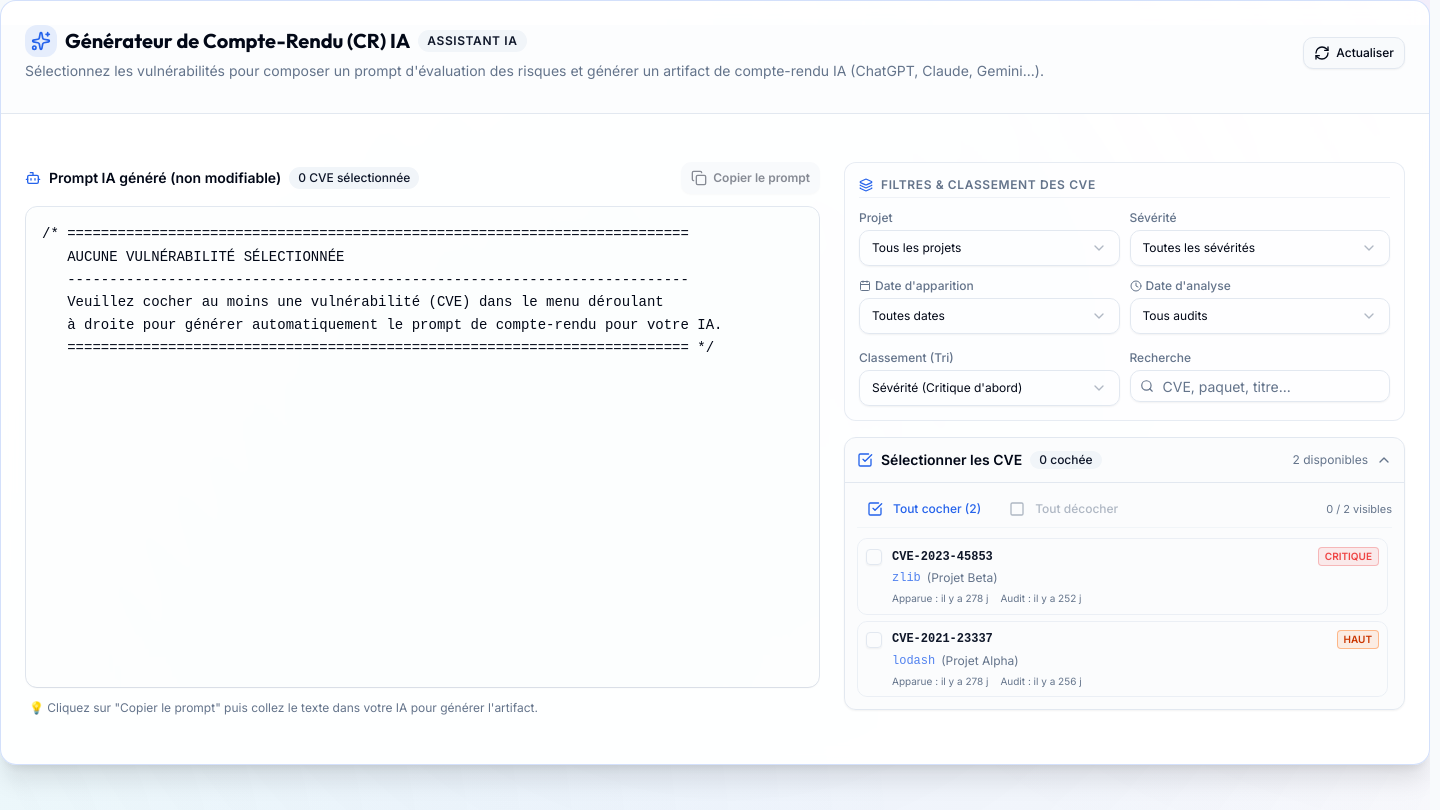
PromptReportGenerator Component › bouton de copie appelle le presse-papiers et change d'état
Expected: the text "CVE-2021-23337" is shown, [892,631,993,647]
Click the checkbox named "CVE-2021-23337" at (874, 640), box [866,632,882,648]
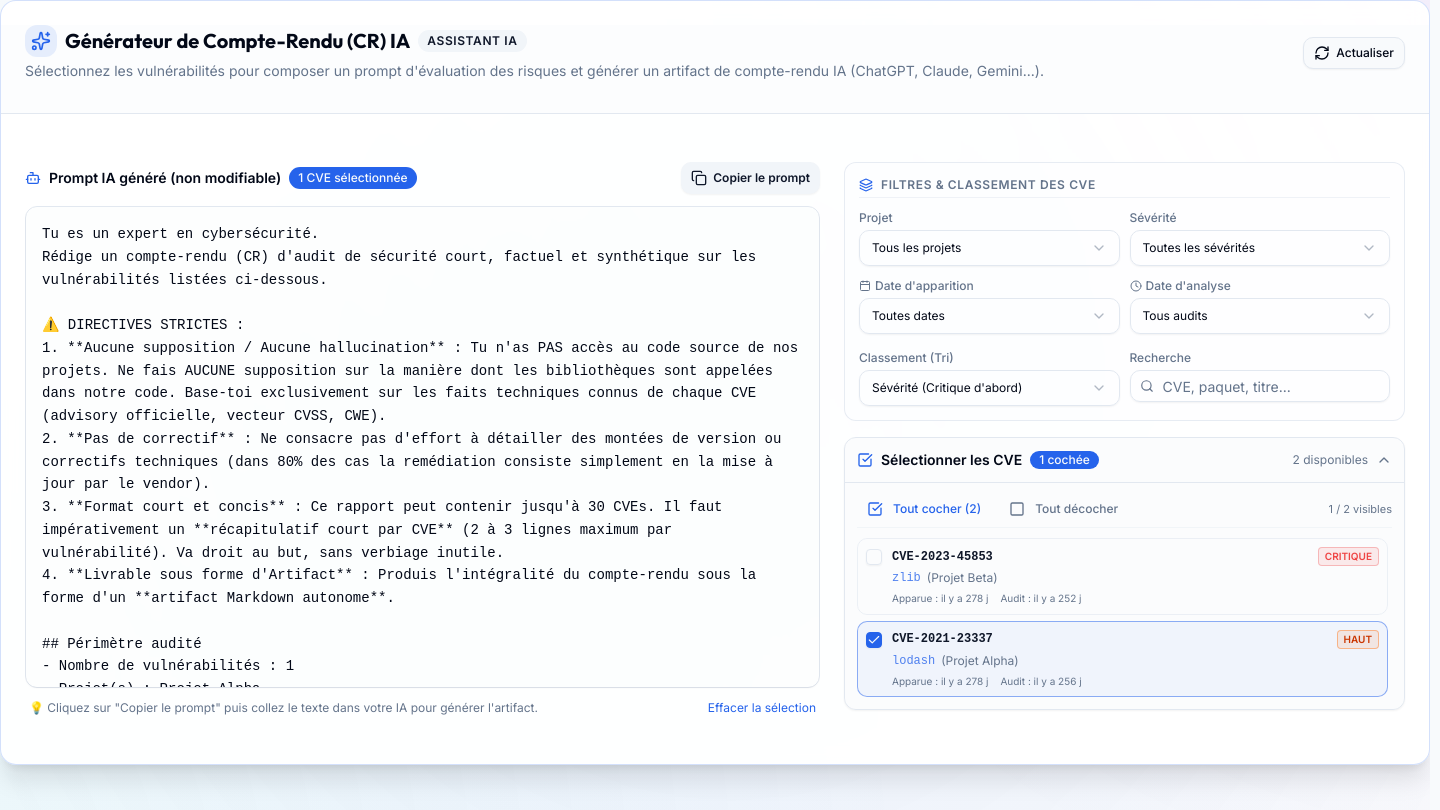
Click the button "Copier le prompt" at (751, 178), box [681,162,820,194]
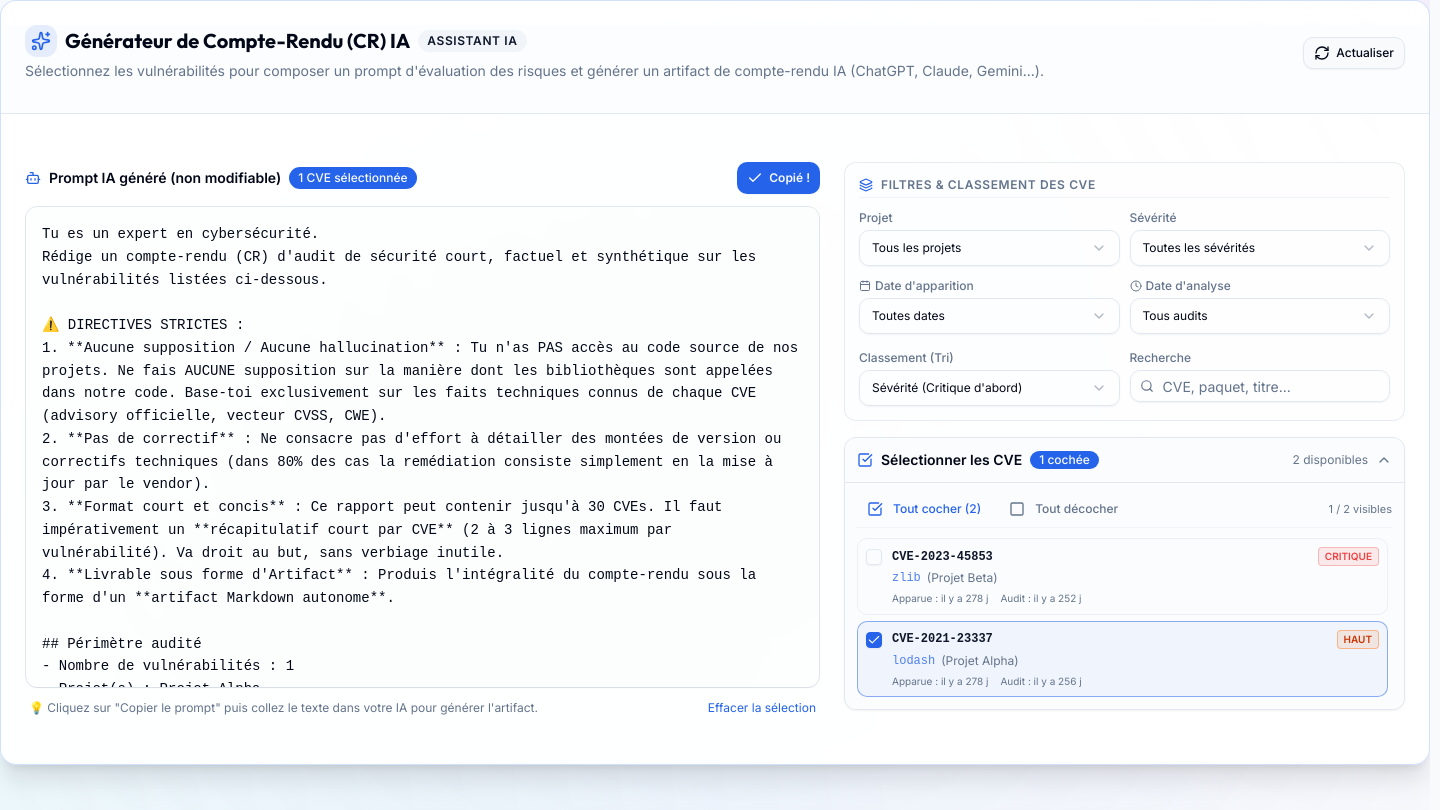
Expected: the text "Copié !" is shown, [769,170,810,186]
